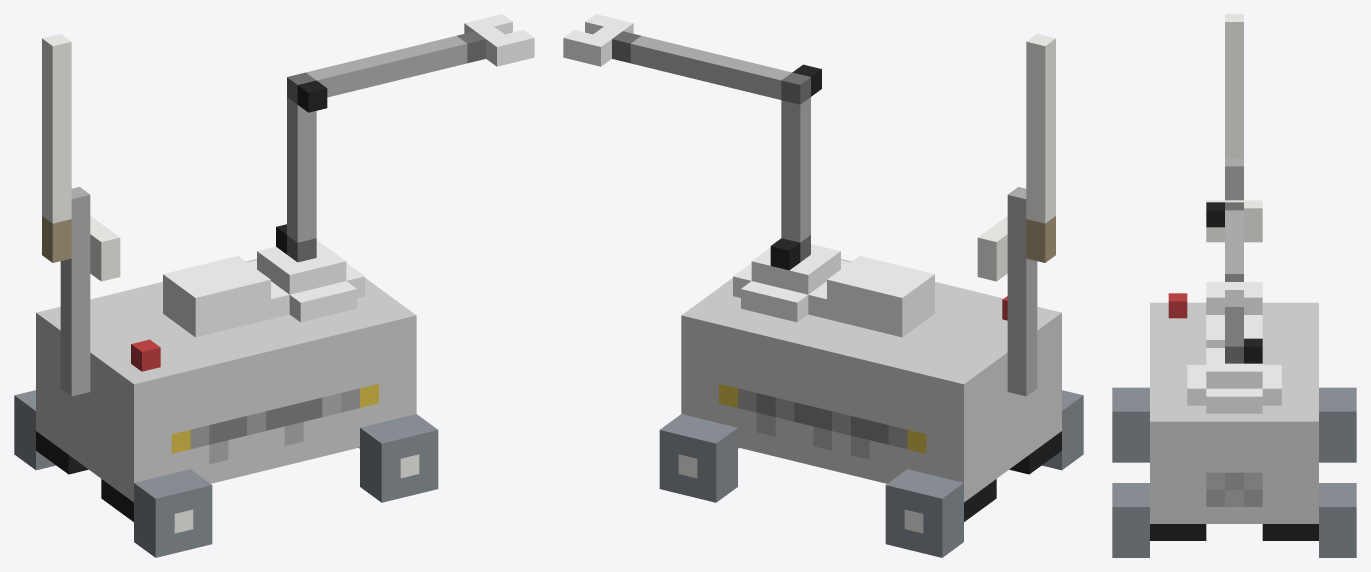
The model's file is prairie_pioneer.glb.
3 renders of one model, left to right at view 1: azimuth 30°, elevation 25°; view 2: azimuth 150°, elevation 25°; view 3: azimuth 270°, elevation 25°, orthographic. The views are drawn at different scales.
Parts seen in each view (by area): view 1: Node; view 2: Node; view 3: Node.
Part boxes in pixels (x1,y1,x2,y2): Node: [14, 14, 534, 557]; Node: [563, 14, 1083, 557]; Node: [1112, 14, 1356, 557].
Bounding box in the file's own units: 2.5 × 2.4 × 1.3.
Materials: 1 (1 with a texture image).
